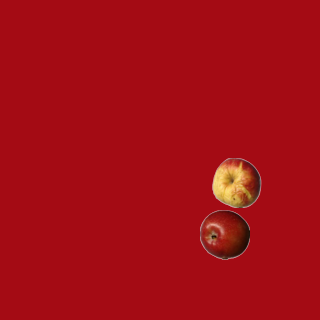Apple Braeburn: (199, 209, 249, 259)
Apple Red Yellow 1: (211, 157, 261, 207)
